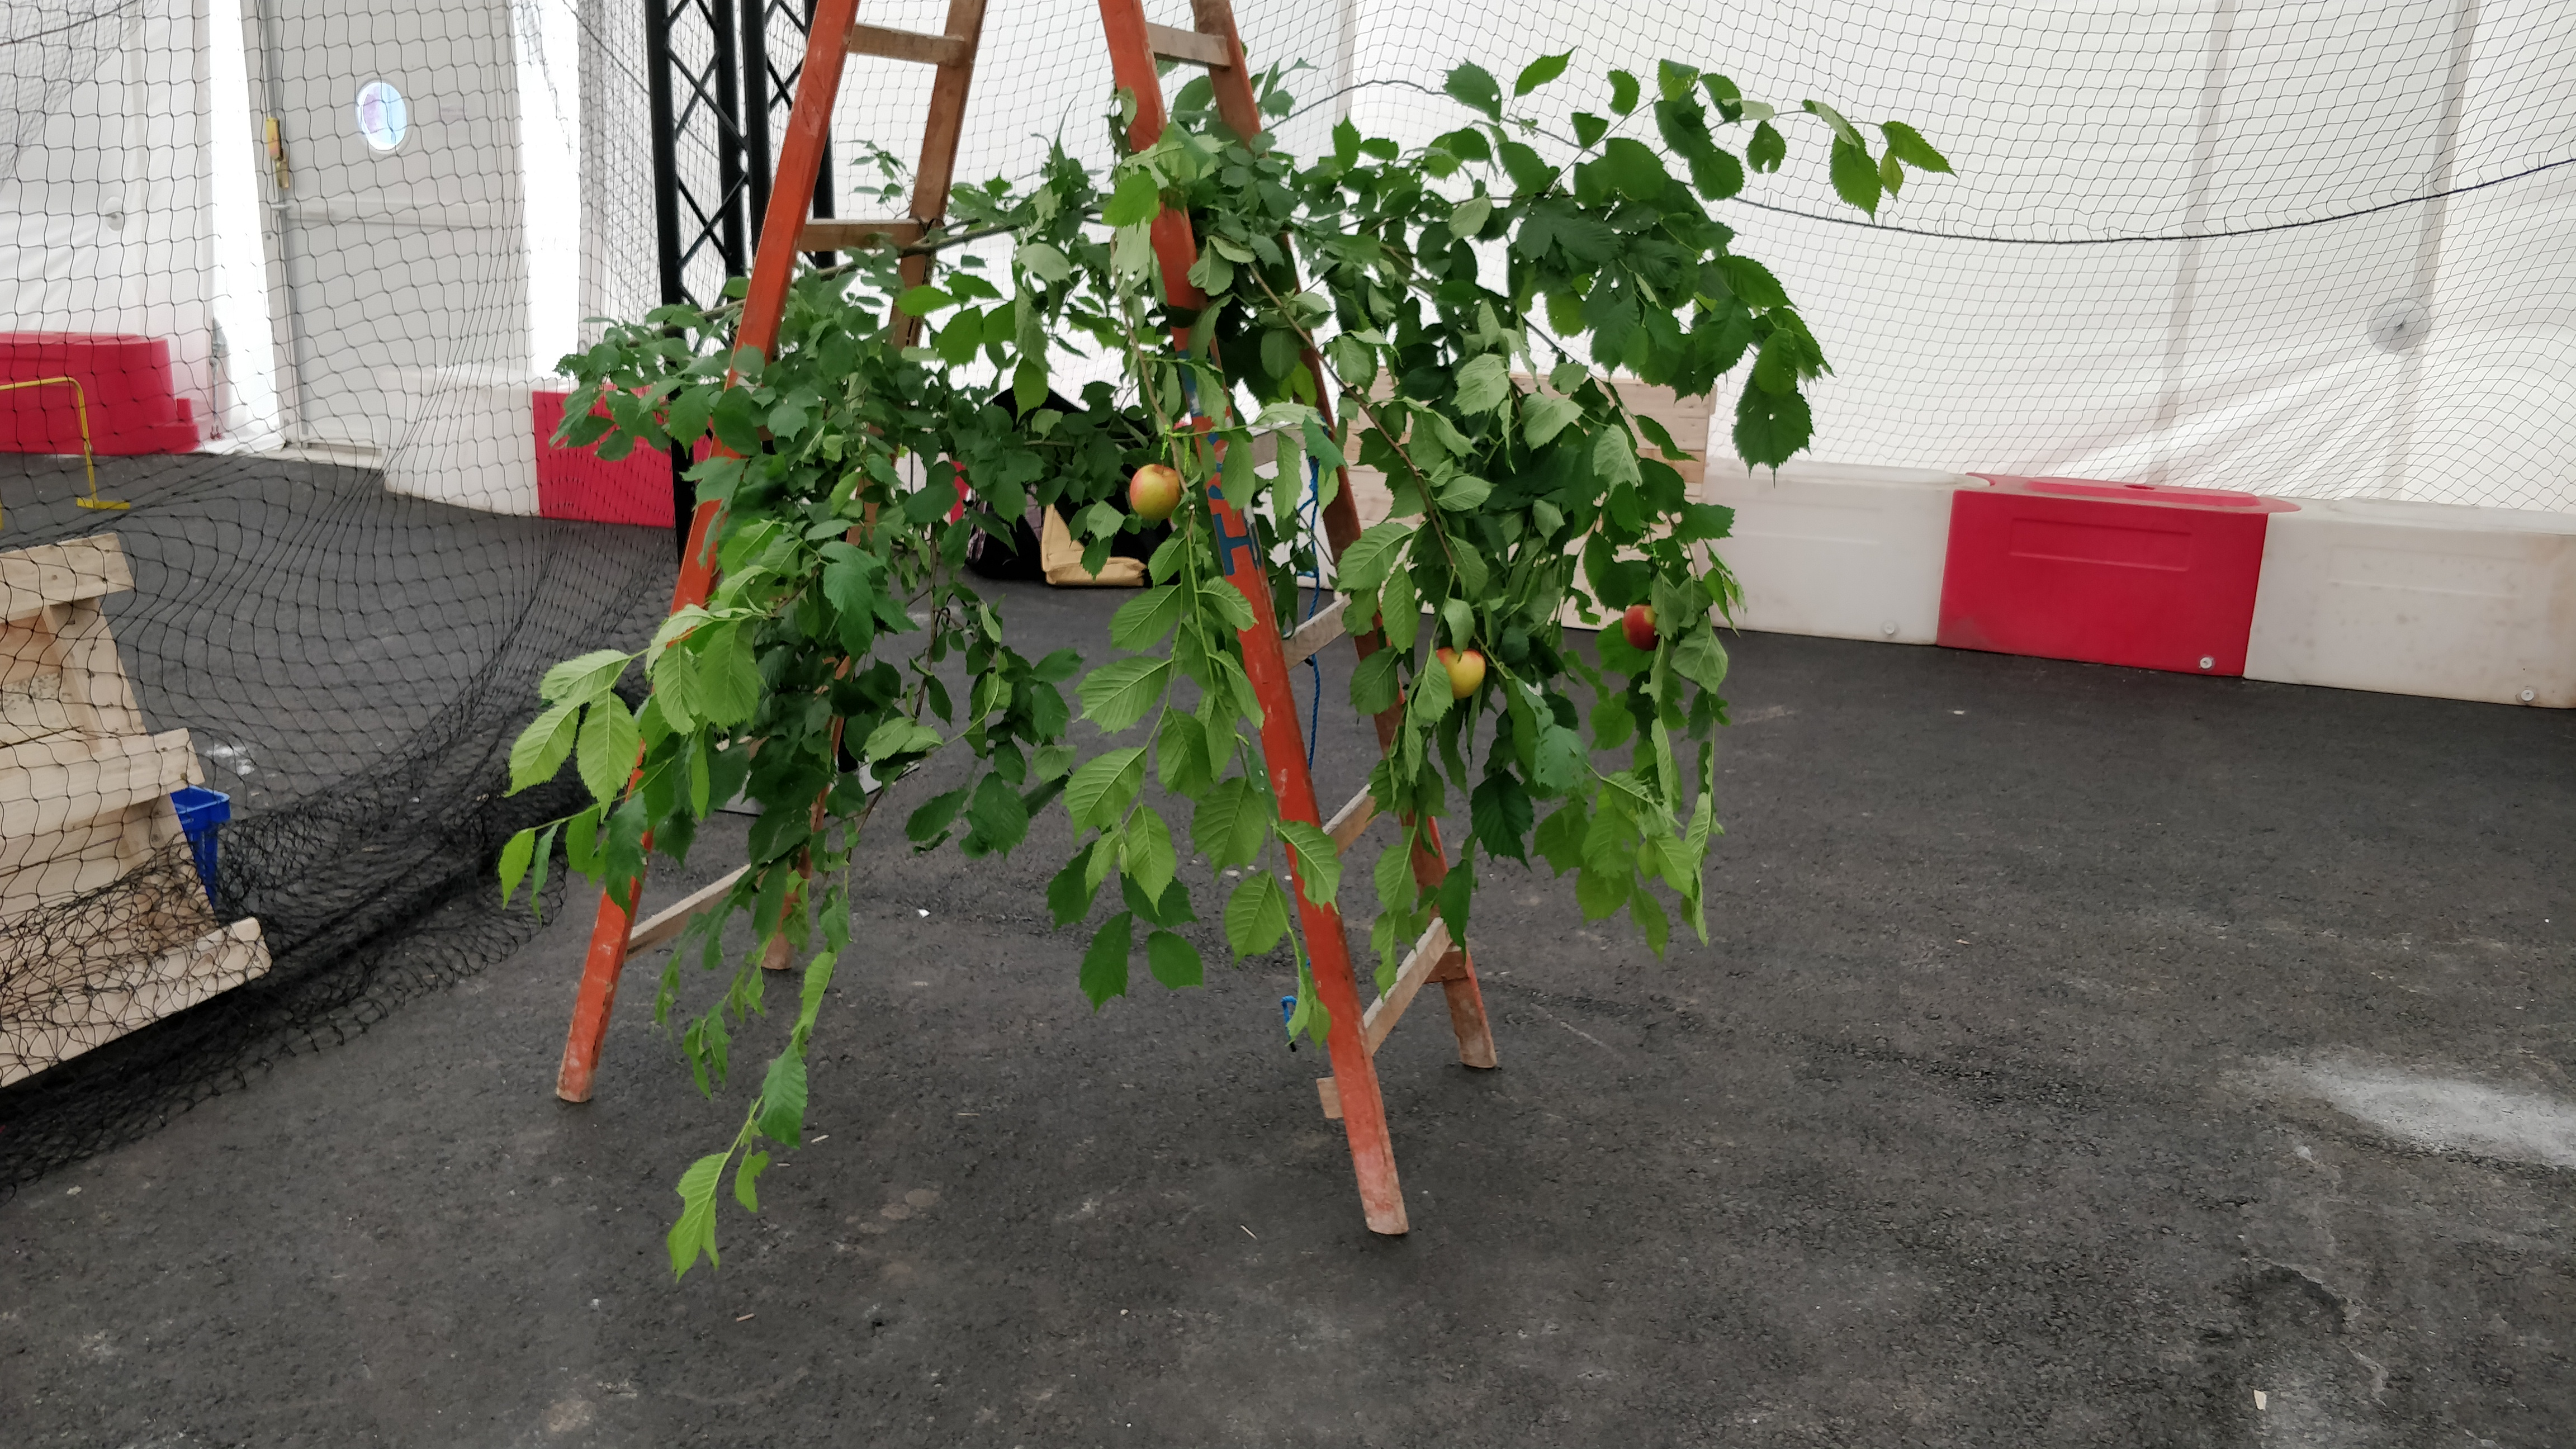apple: (1131, 464, 1182, 520), (1433, 648, 1486, 699), (1622, 603, 1661, 651)
